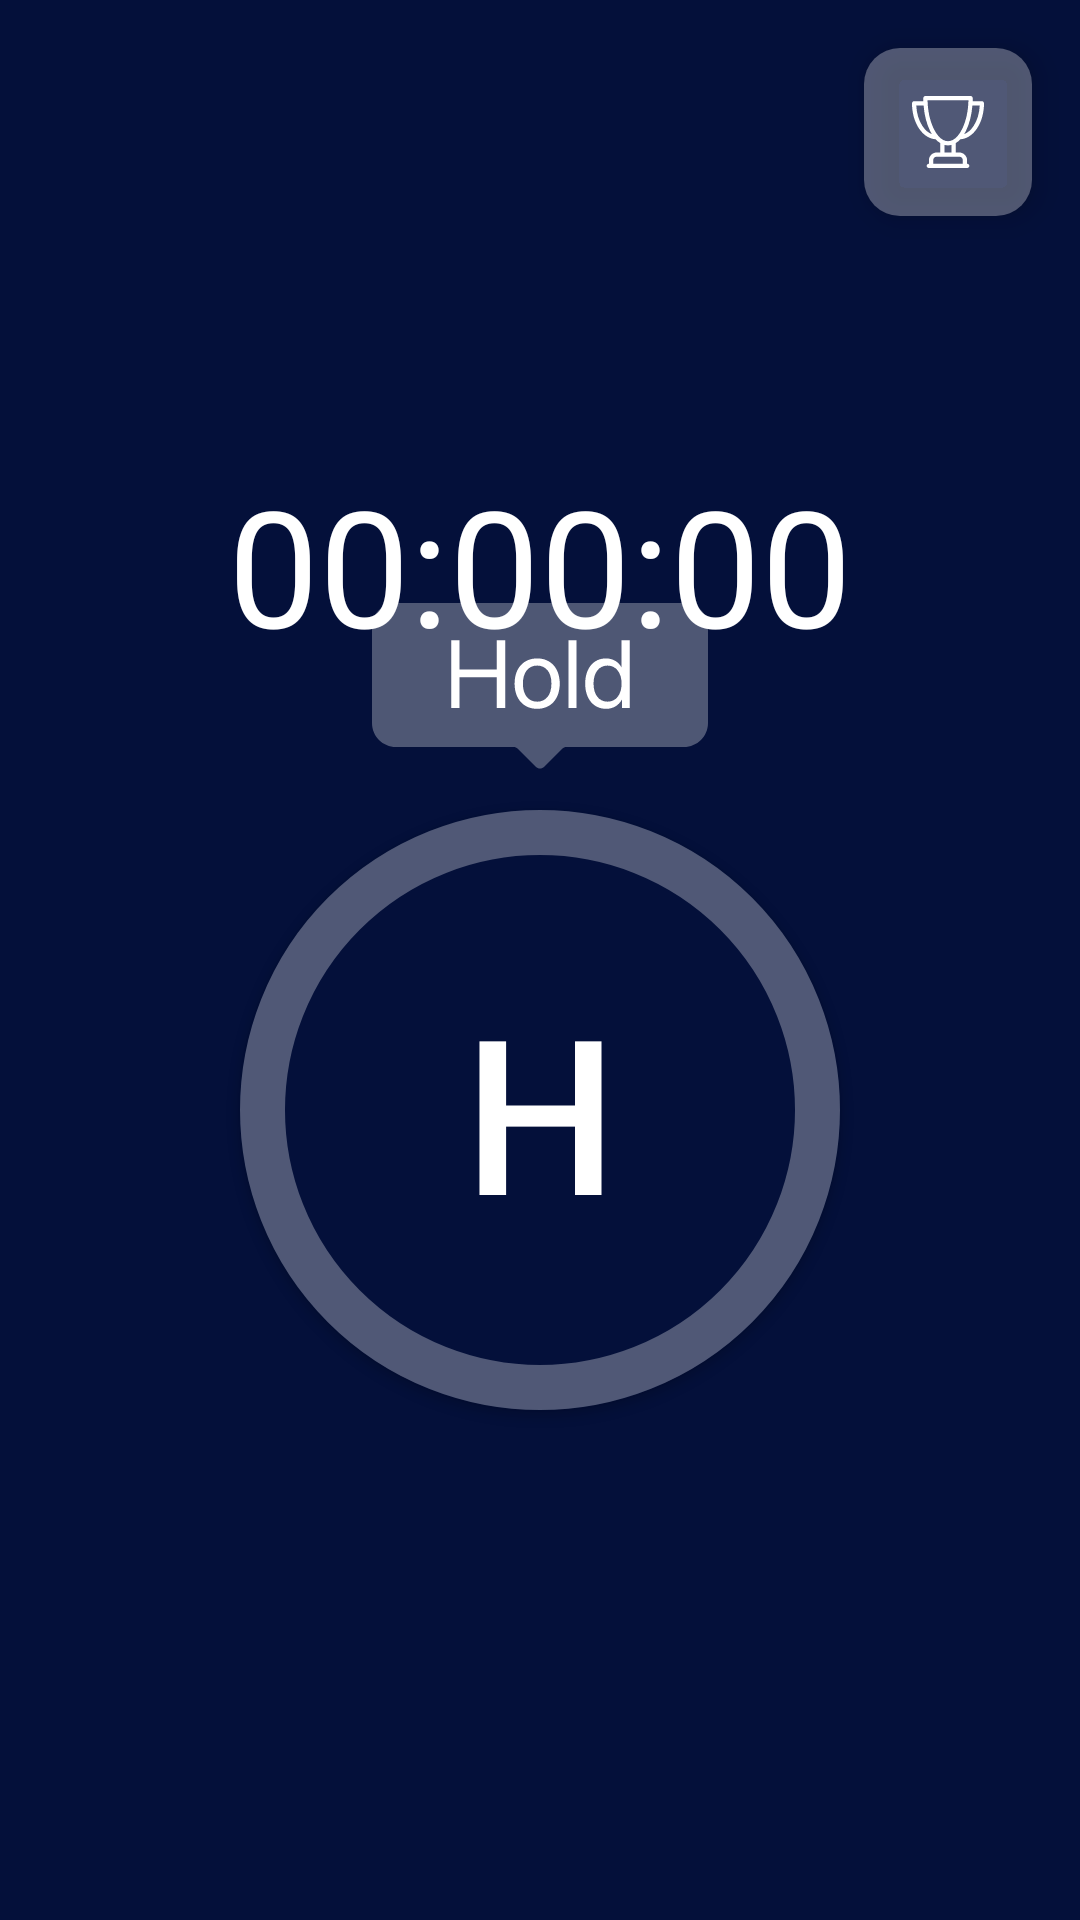

Screen size 1080*1920. Icon name, then its box in pixels as (x1, y1, x2, y2):
leaderboard: (864, 48, 1032, 216)
